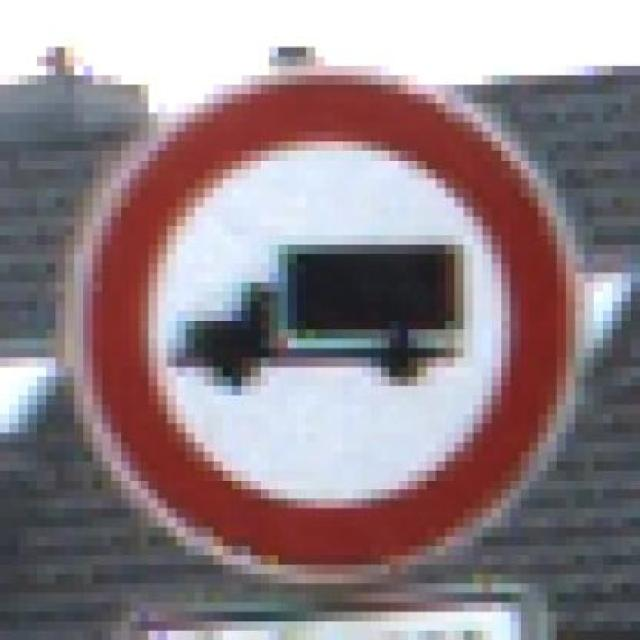Truck traffic is prohibited: (56, 38, 604, 593)
